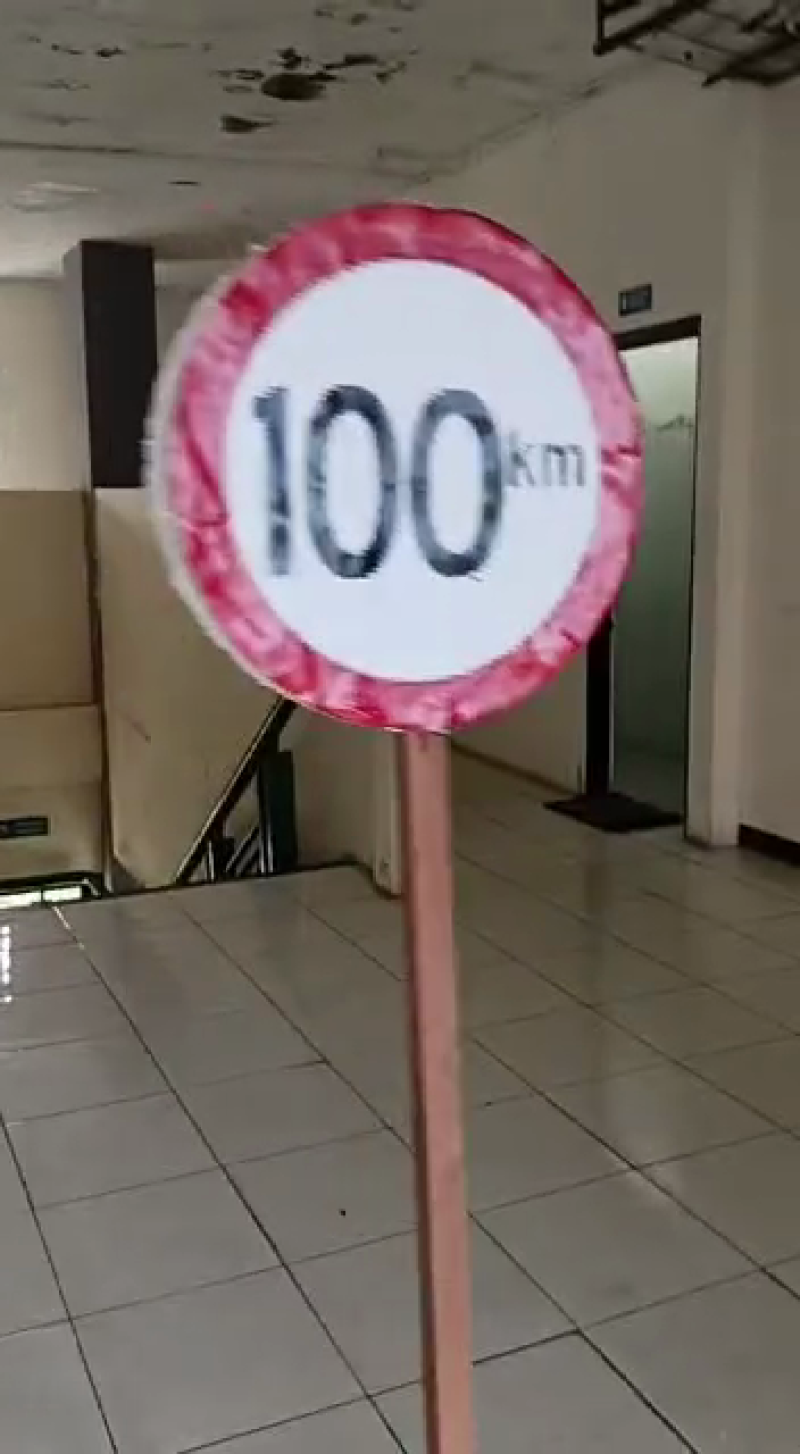batas maksimal 100kmperjam: (136, 196, 649, 745)
